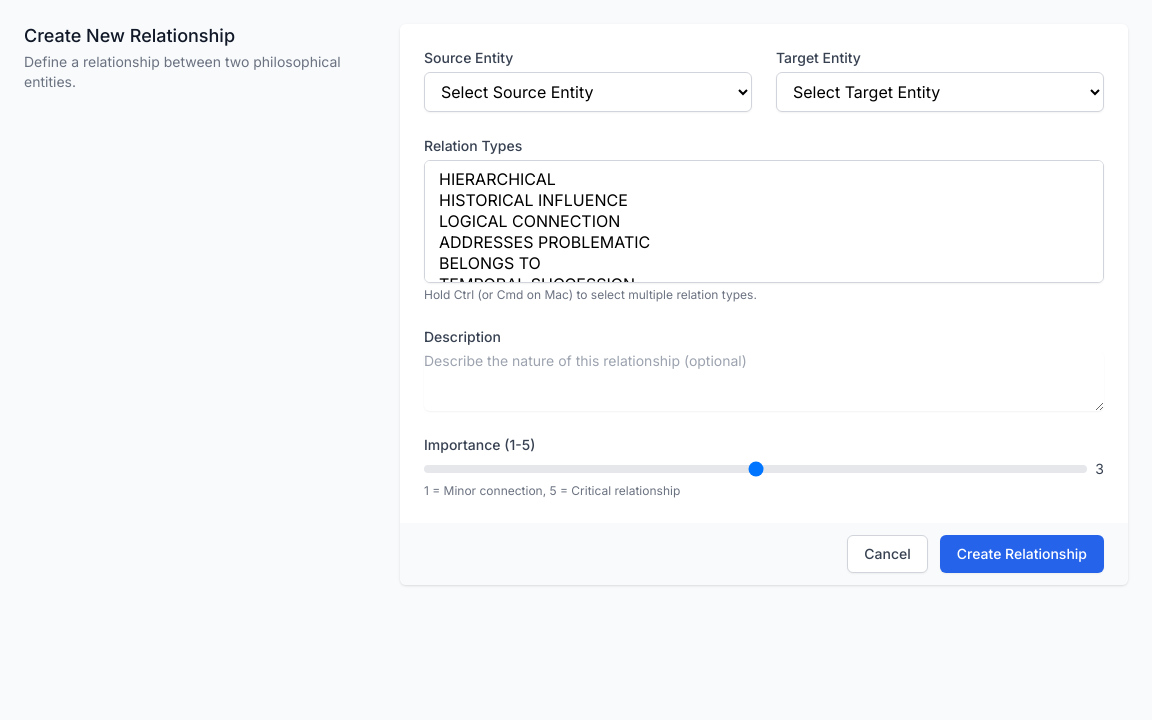
Scenario: RelationshipForm Component › Form Validation › clears validation errors when form fields are changed
This screenshot has width=1152, height=720.
Check: the form named "Create Relationship Form" is shown, box [400,24,1128,585]
# Submit without filling required fields to trigger errors
Click the button "Create Relationship" at (1022, 554), box [940,535,1104,573]
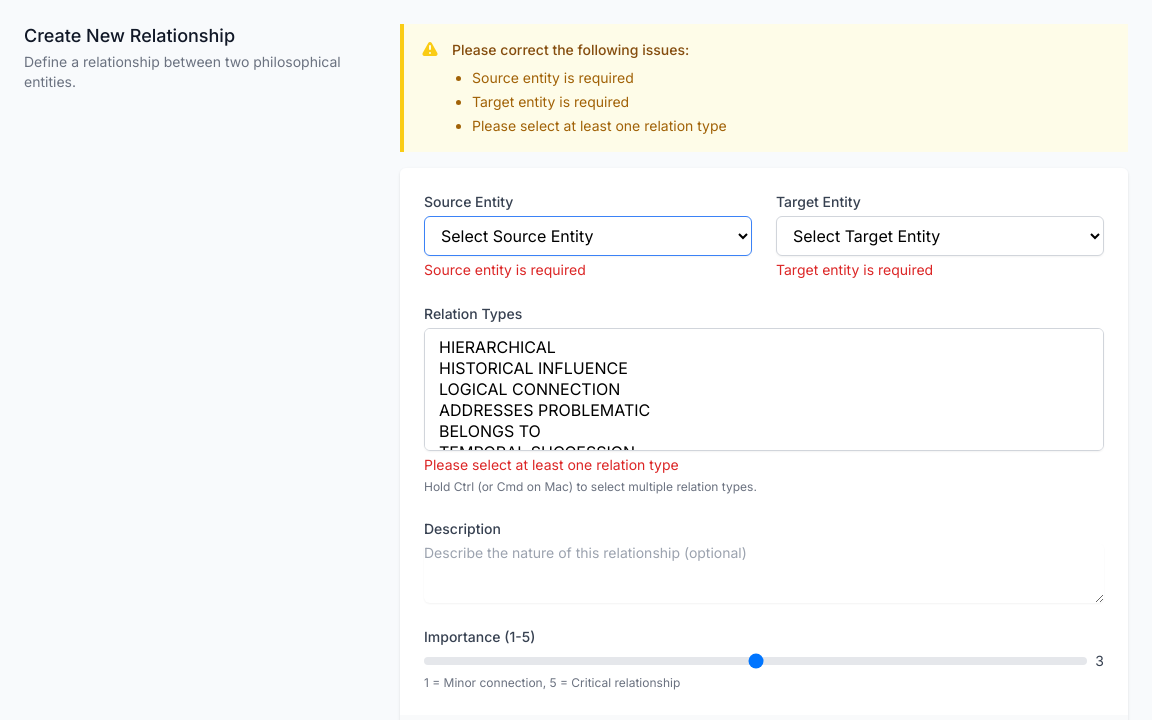
Check: the message with test id "validation-errors" is shown, box [400,24,1128,152]
Check: the number of list items "Source entity is required" is 2, box [472,69,634,86]; [424,261,586,278]
# Now fill in the source field
Select "Immanuel Kant (Philosopher)" in the dropdown with test id "source-entity-select" at (588, 236), box [424,216,752,256]
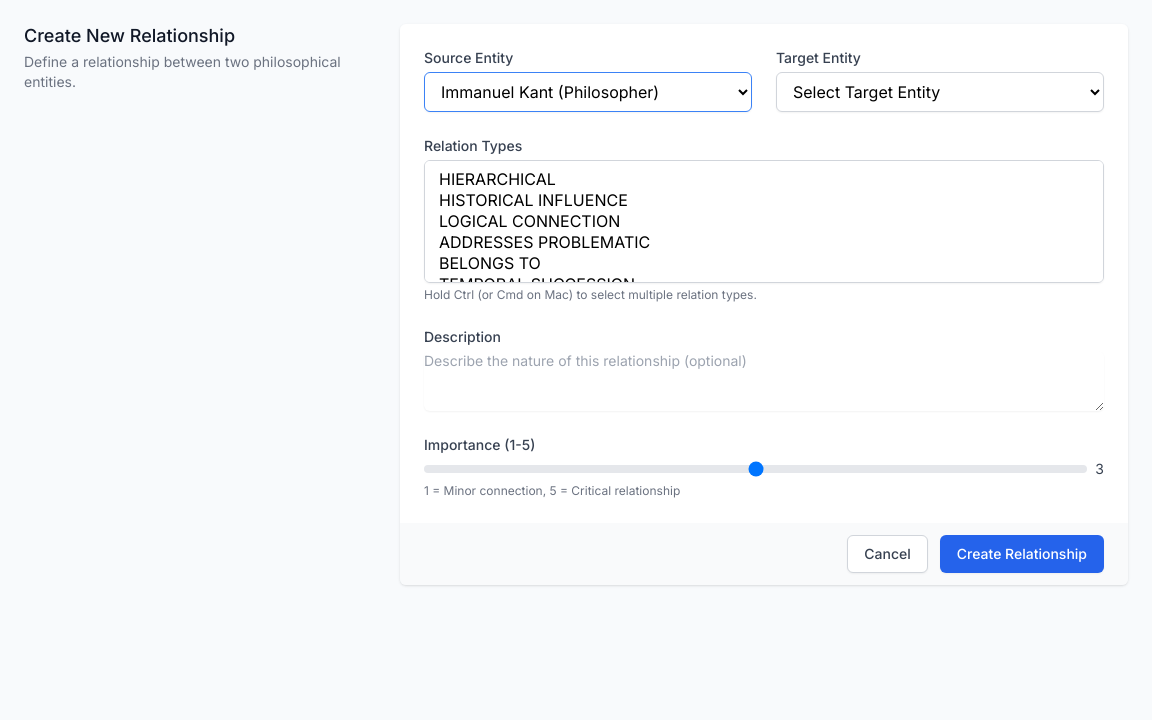
Check: the message with test id "validation-errors" is gone
